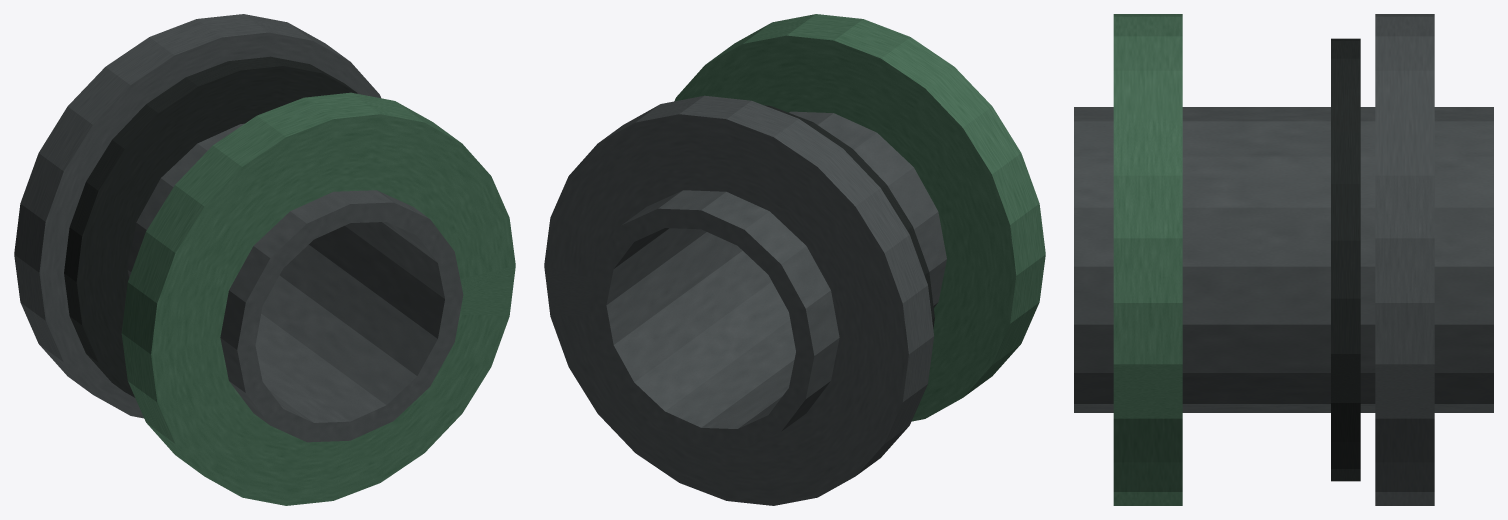
The model's file is Barrel_Overflow_Bulkhead.glb.
3 views of the same model, side by side, from view 1: azimuth 30°, elevation 25°; view 2: azimuth 150°, elevation 25°; view 3: azimuth 270°, elevation 25° (orthographic). The views are drawn at different scales.
Parts seen in each view (by area): view 1: Interior_Retention_Flange, Overflow_Through_Wall_Connector, Exterior_Backnut, Bulkhead_Gasket; view 2: Exterior_Backnut, Overflow_Through_Wall_Connector, Interior_Retention_Flange, Bulkhead_Gasket; view 3: Overflow_Through_Wall_Connector, Interior_Retention_Flange, Exterior_Backnut, Bulkhead_Gasket.
Part boxes in pixels (box(x1,y1,x2,y2)): Interior_Retention_Flange: box(121, 92, 515, 505); Overflow_Through_Wall_Connector: box(127, 123, 463, 442); Exterior_Backnut: box(14, 14, 380, 418); Bulkhead_Gasket: box(64, 56, 357, 397); Exterior_Backnut: box(544, 95, 934, 505); Overflow_Through_Wall_Connector: box(588, 111, 946, 448); Interior_Retention_Flange: box(674, 14, 1045, 421); Bulkhead_Gasket: box(764, 105, 934, 328); Overflow_Through_Wall_Connector: box(1074, 107, 1493, 412); Interior_Retention_Flange: box(1113, 14, 1182, 505); Exterior_Backnut: box(1375, 14, 1434, 505); Bulkhead_Gasket: box(1331, 38, 1360, 481).
Bounding box in the file's own units: 0.1 × 0.1 × 0.085.
3 materials, 3 textured.
